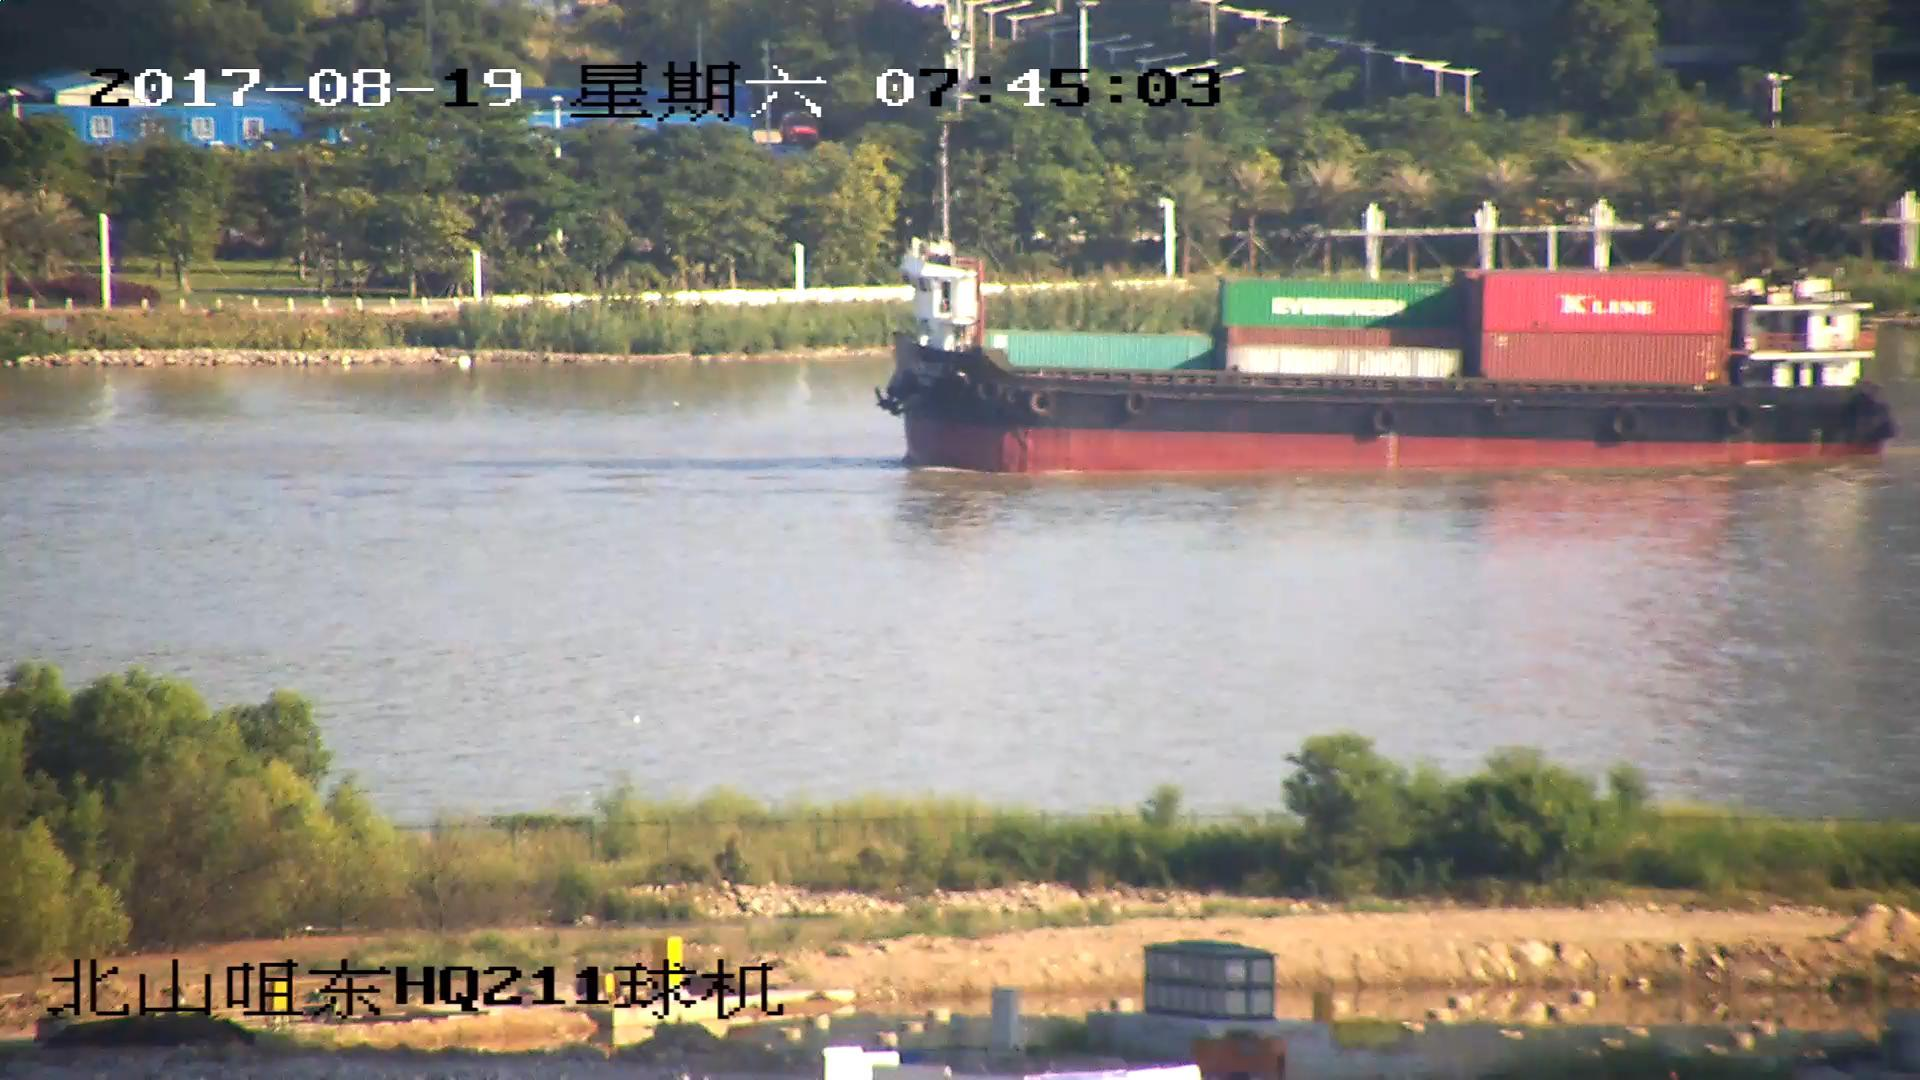Ship: (872, 210, 1896, 479)
